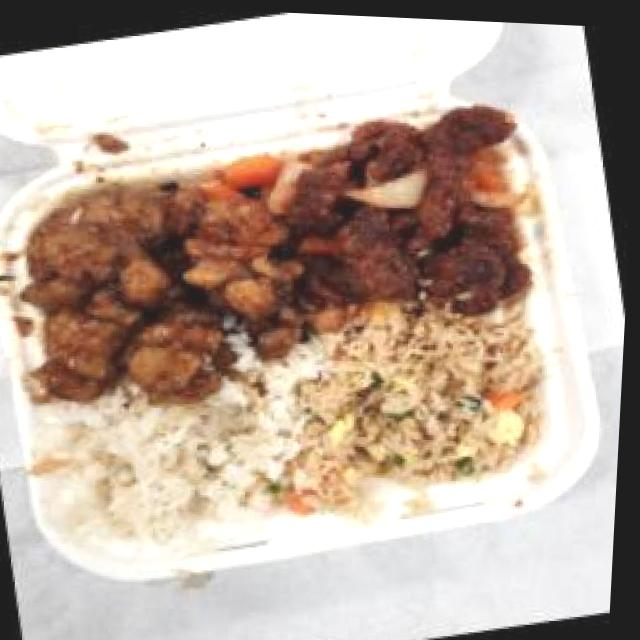Beijing Beef: (277, 82, 562, 340)
Fried Rice: (253, 290, 572, 523)
The Original Orange Chicken: (0, 124, 347, 429)
White Steamed Rice: (27, 367, 275, 575)
